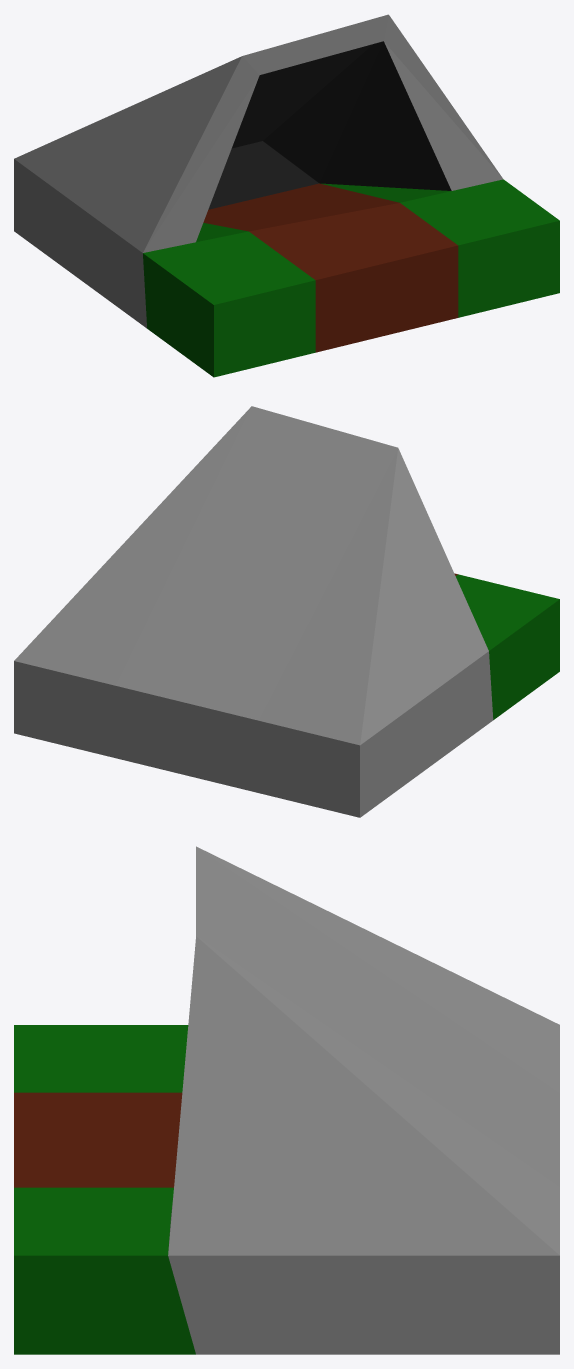
Rendered from Spawner.FBX.
The picture shows the model from 3 angles, top to bottom: view 1: azimuth 30°, elevation 25°; view 2: azimuth 150°, elevation 25°; view 3: azimuth 270°, elevation 25°; orthographic projection. The views are drawn at different scales.
Visible parts, largest first — view 1: Spawner; view 2: Spawner; view 3: Spawner.
Part boxes in pixels (left/top/right/bottom): Spawner: left=14, top=14, right=559, bottom=377; Spawner: left=14, top=406, right=559, bottom=817; Spawner: left=14, top=846, right=559, bottom=1354.
Bounding box in the file's own units: 1000 × 705 × 1000.
